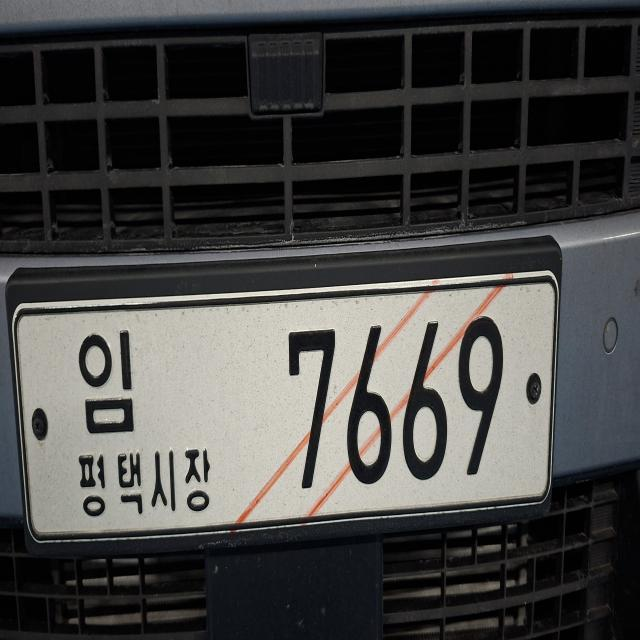car: (6, 215, 570, 560)
